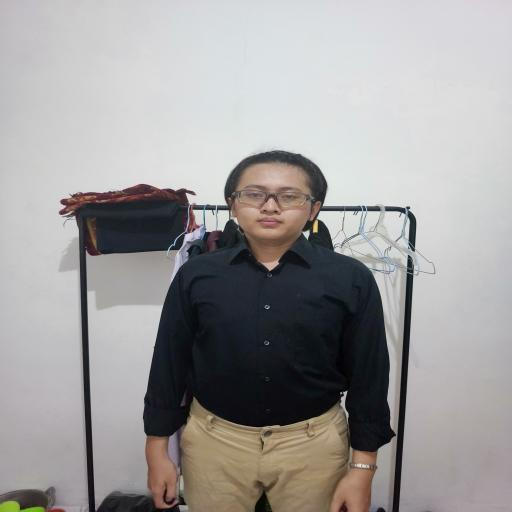celana_salah: (176, 403, 362, 512)
kemeja_salah: (148, 249, 397, 423)
